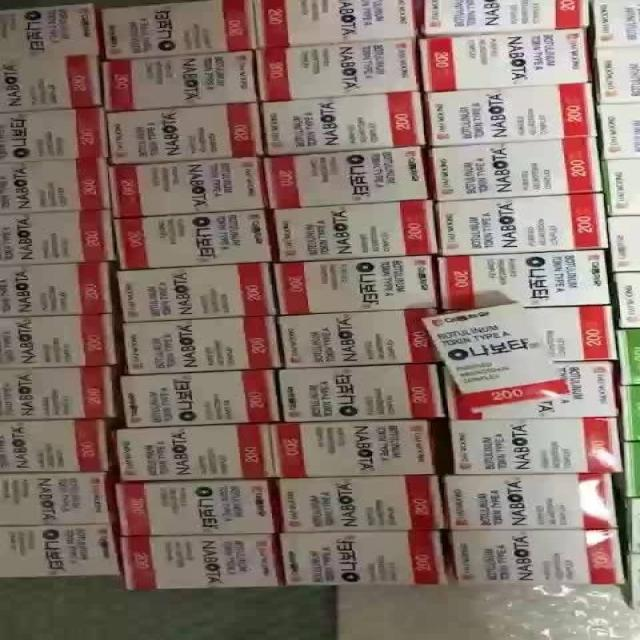box: (421, 300, 572, 413), (432, 136, 604, 203), (261, 91, 427, 157), (437, 192, 608, 256), (419, 29, 592, 92), (428, 83, 599, 146), (439, 249, 611, 311), (255, 38, 419, 103), (261, 146, 429, 209), (275, 254, 439, 317), (273, 200, 437, 263), (445, 362, 621, 420), (277, 309, 444, 370), (449, 417, 623, 475), (109, 157, 271, 219), (444, 474, 619, 531), (113, 208, 272, 270), (105, 103, 263, 165), (280, 365, 447, 423), (449, 530, 624, 585), (116, 478, 279, 537), (116, 422, 276, 482), (279, 475, 444, 533), (271, 420, 435, 478), (116, 263, 277, 322), (123, 315, 281, 375), (120, 369, 280, 428), (279, 531, 447, 587), (103, 51, 256, 112), (120, 534, 283, 591), (101, 0, 255, 60), (253, 0, 421, 48), (0, 313, 116, 370), (0, 210, 113, 267), (0, 525, 121, 578), (0, 158, 111, 215), (0, 472, 119, 525), (0, 263, 113, 318), (0, 107, 109, 164), (0, 417, 112, 472), (423, 0, 589, 37), (0, 53, 103, 112), (0, 368, 115, 420), (0, 3, 101, 62), (524, 305, 617, 362), (595, 48, 640, 105), (599, 103, 640, 161), (592, 0, 640, 48), (604, 160, 640, 217), (607, 217, 640, 272), (613, 272, 640, 328), (616, 330, 640, 386), (620, 386, 640, 441), (621, 442, 640, 497)
